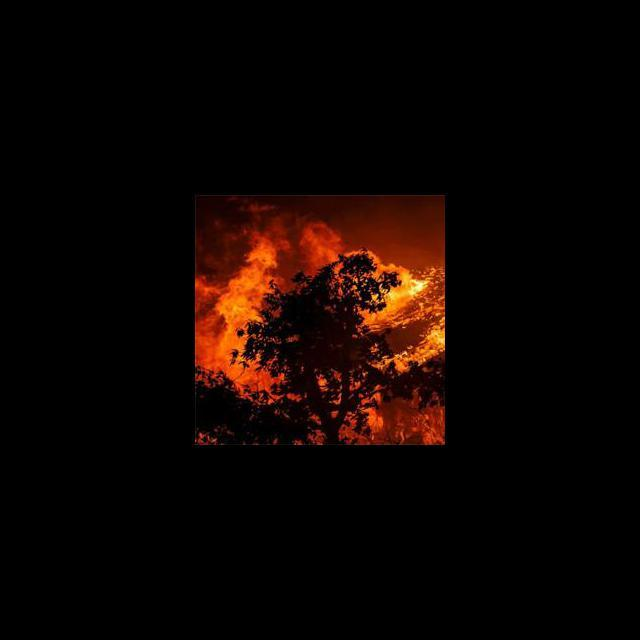Fire: (195, 197, 444, 444)
